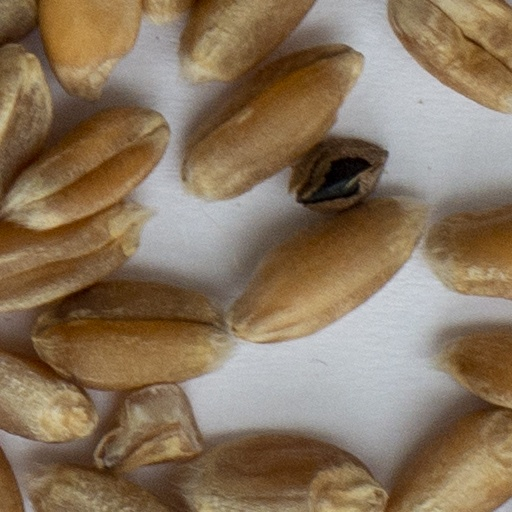Fallopia-Convolvulus-poly: (293, 138, 386, 212)
Wheat-grain-damaged-poly: (95, 383, 200, 469)
Wheat-grain-poly: (229, 196, 430, 341), (389, 0, 511, 112), (424, 204, 511, 298)
